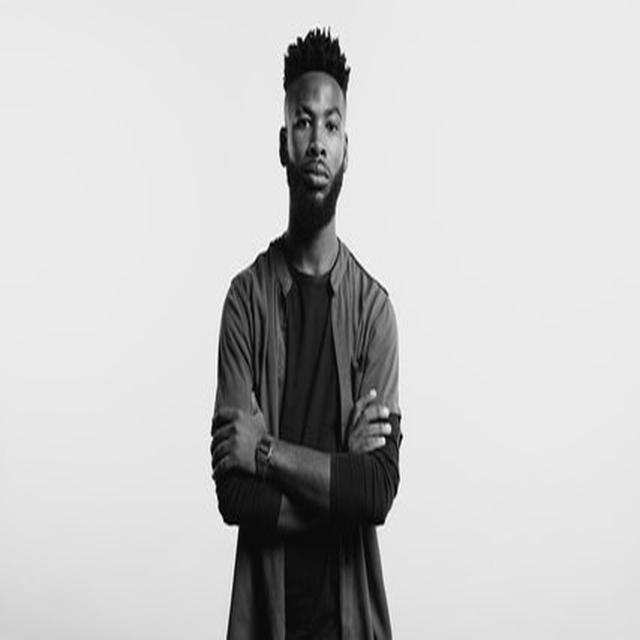Neutral: (287, 75, 345, 229)
